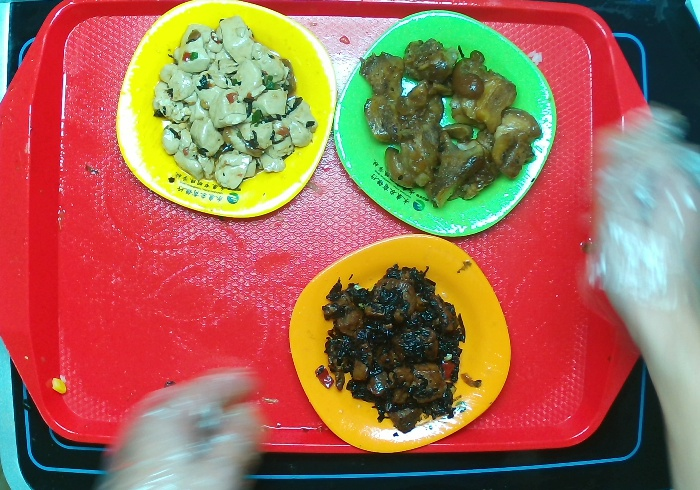YKMZ-Huang_Se_Fang_Die: (115, 1, 338, 220)
YKMZ-Ju_Se_Fang_Die: (290, 233, 511, 452)
YKMZ-Lv_Se_Fang_Die: (332, 7, 560, 241)
